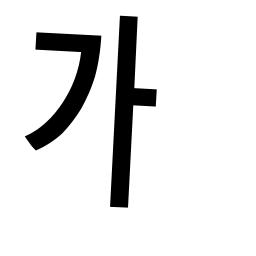Gaji: (105, 75, 149, 123)
